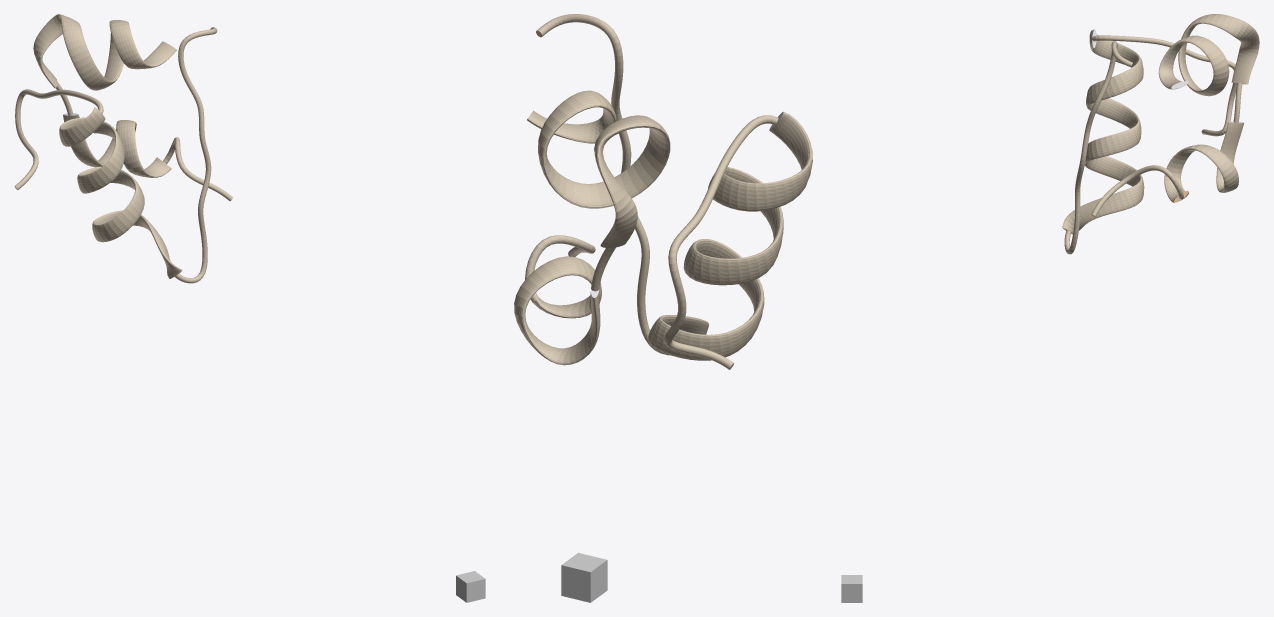
File: 9ins.fbx
3 views of the same model, side by side, from view 1: azimuth 30°, elevation 25°; view 2: azimuth 150°, elevation 25°; view 3: azimuth 270°, elevation 25° (orthographic). The views are drawn at different scales.
Parts seen in each view (by area): view 1: ShapeIndexedFaceSet_020, ShapeIndexedFaceSet_016, Cube, ShapeIndexedFaceSet_050, ShapeIndexedFaceSet_043, ShapeIndexedFaceSet_029, ShapeIndexedFaceSet_047, ShapeIndexedFaceSet_022; view 2: Cube, ShapeIndexedFaceSet_048, ShapeIndexedFaceSet_044, ShapeIndexedFaceSet_019, ShapeIndexedFaceSet_052, ShapeIndexedFaceSet_028, ShapeIndexedFaceSet_017, ShapeIndexedFaceSet_043, ShapeIndexedFaceSet_051, ShapeIndexedFaceSet_020, ShapeIndexedFaceSet_018, ShapeIndexedFaceSet_023 (+23 smaller); view 3: ShapeIndexedFaceSet_049, ShapeIndexedFaceSet_053, ShapeIndexedFaceSet_051, ShapeIndexedFaceSet_023, ShapeIndexedFaceSet_017, ShapeIndexedFaceSet_021, Cube, ShapeIndexedFaceSet_028, ShapeIndexedFaceSet_045, ShapeIndexedFaceSet_025.
Boxes of the visible parts, box(x1,y1,x2,y2) form: ShapeIndexedFaceSet_020: box(64, 34, 100, 83); ShapeIndexedFaceSet_016: box(110, 25, 142, 67); Cube: box(456, 571, 485, 602); ShapeIndexedFaceSet_050: box(108, 189, 144, 236); ShapeIndexedFaceSet_043: box(63, 107, 105, 145); ShapeIndexedFaceSet_029: box(116, 127, 143, 172); ShapeIndexedFaceSet_047: box(77, 165, 116, 193); ShapeIndexedFaceSet_022: box(33, 14, 62, 52); Cube: box(561, 552, 607, 602); ShapeIndexedFaceSet_048: box(693, 251, 767, 285); ShapeIndexedFaceSet_044: box(746, 164, 810, 211); ShapeIndexedFaceSet_019: box(581, 158, 654, 208); ShapeIndexedFaceSet_052: box(651, 319, 720, 360); ShapeIndexedFaceSet_028: box(514, 256, 579, 307); ShapeIndexedFaceSet_017: box(538, 91, 600, 148); ShapeIndexedFaceSet_043: box(769, 112, 812, 170); ShapeIndexedFaceSet_051: box(718, 292, 764, 357); ShapeIndexedFaceSet_020: box(638, 120, 670, 180); ShapeIndexedFaceSet_018: box(538, 142, 582, 206); ShapeIndexedFaceSet_023: box(600, 198, 637, 247); ShapeIndexedFaceSet_049: box(1095, 126, 1139, 157); ShapeIndexedFaceSet_053: box(1092, 187, 1138, 217); ShapeIndexedFaceSet_051: box(1089, 156, 1134, 185); ShapeIndexedFaceSet_023: box(1231, 46, 1258, 83); ShapeIndexedFaceSet_017: box(1186, 35, 1227, 70); ShapeIndexedFaceSet_021: box(1195, 14, 1243, 37); Cube: box(841, 575, 862, 602); ShapeIndexedFaceSet_028: box(1191, 144, 1235, 177); ShapeIndexedFaceSet_045: box(1114, 57, 1143, 93); ShapeIndexedFaceSet_025: box(1220, 122, 1244, 159).
Size of the model in its own units: 30.43 by 51.03 by 39.56.
